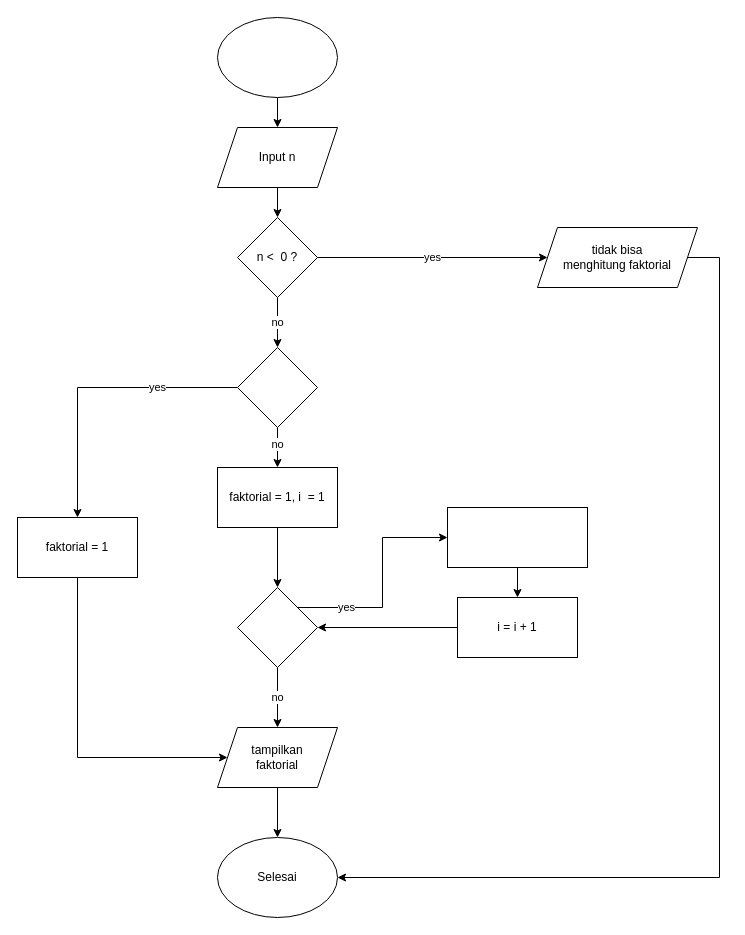
Image size: 745x935. Some labels were removed from this diagram. The shapes that lost their labels are listed below. From the top down, each one's centre as x and y in pixels, then its label:
point 277,57: Mulai
point 277,387: n = 0 ?
point 517,537: faktorial = faktorial * i
point 277,627: i <= n ?
